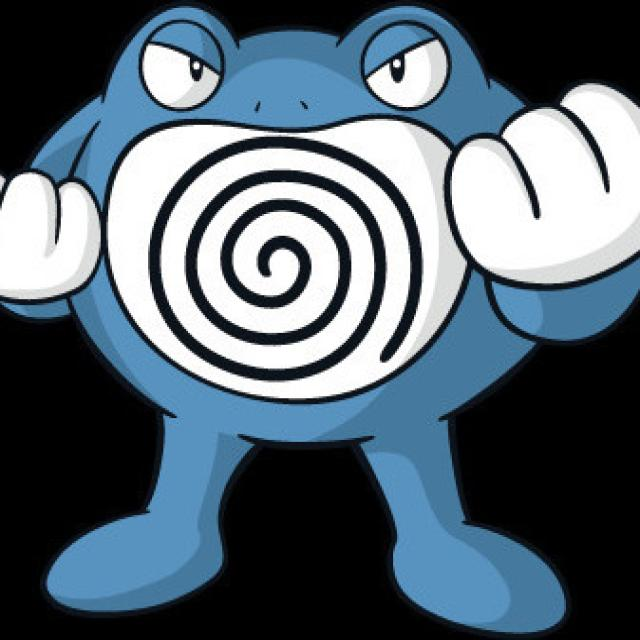Poliwhirl: (28, 13, 562, 505)
